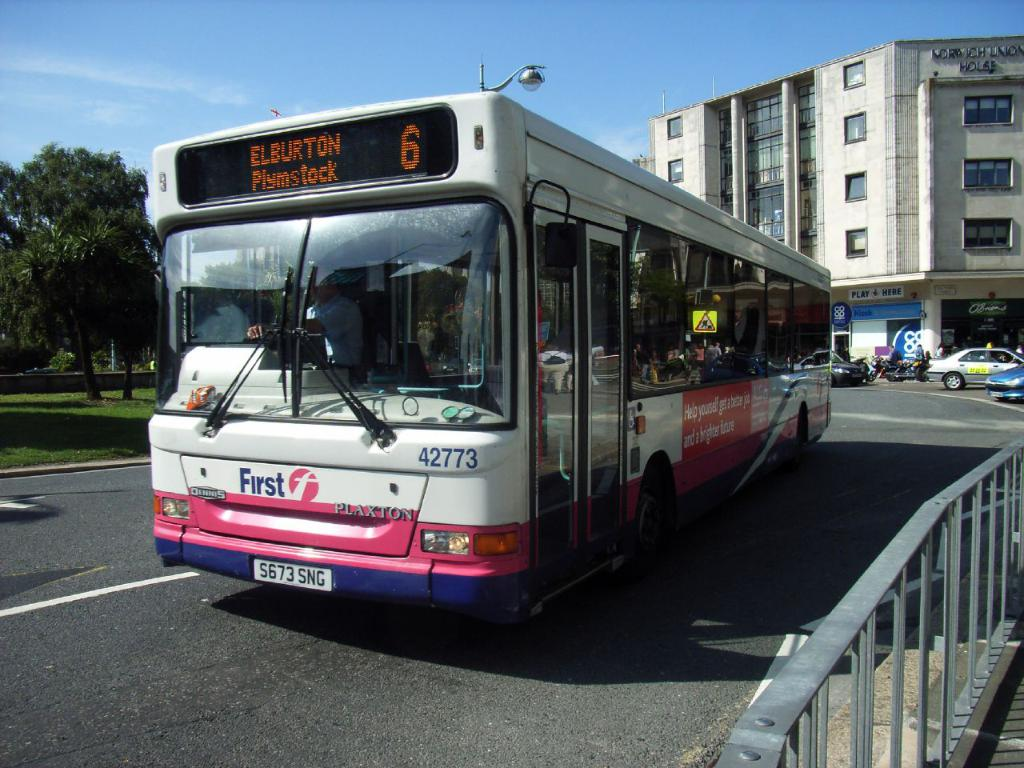Bus: (143, 84, 835, 624)
